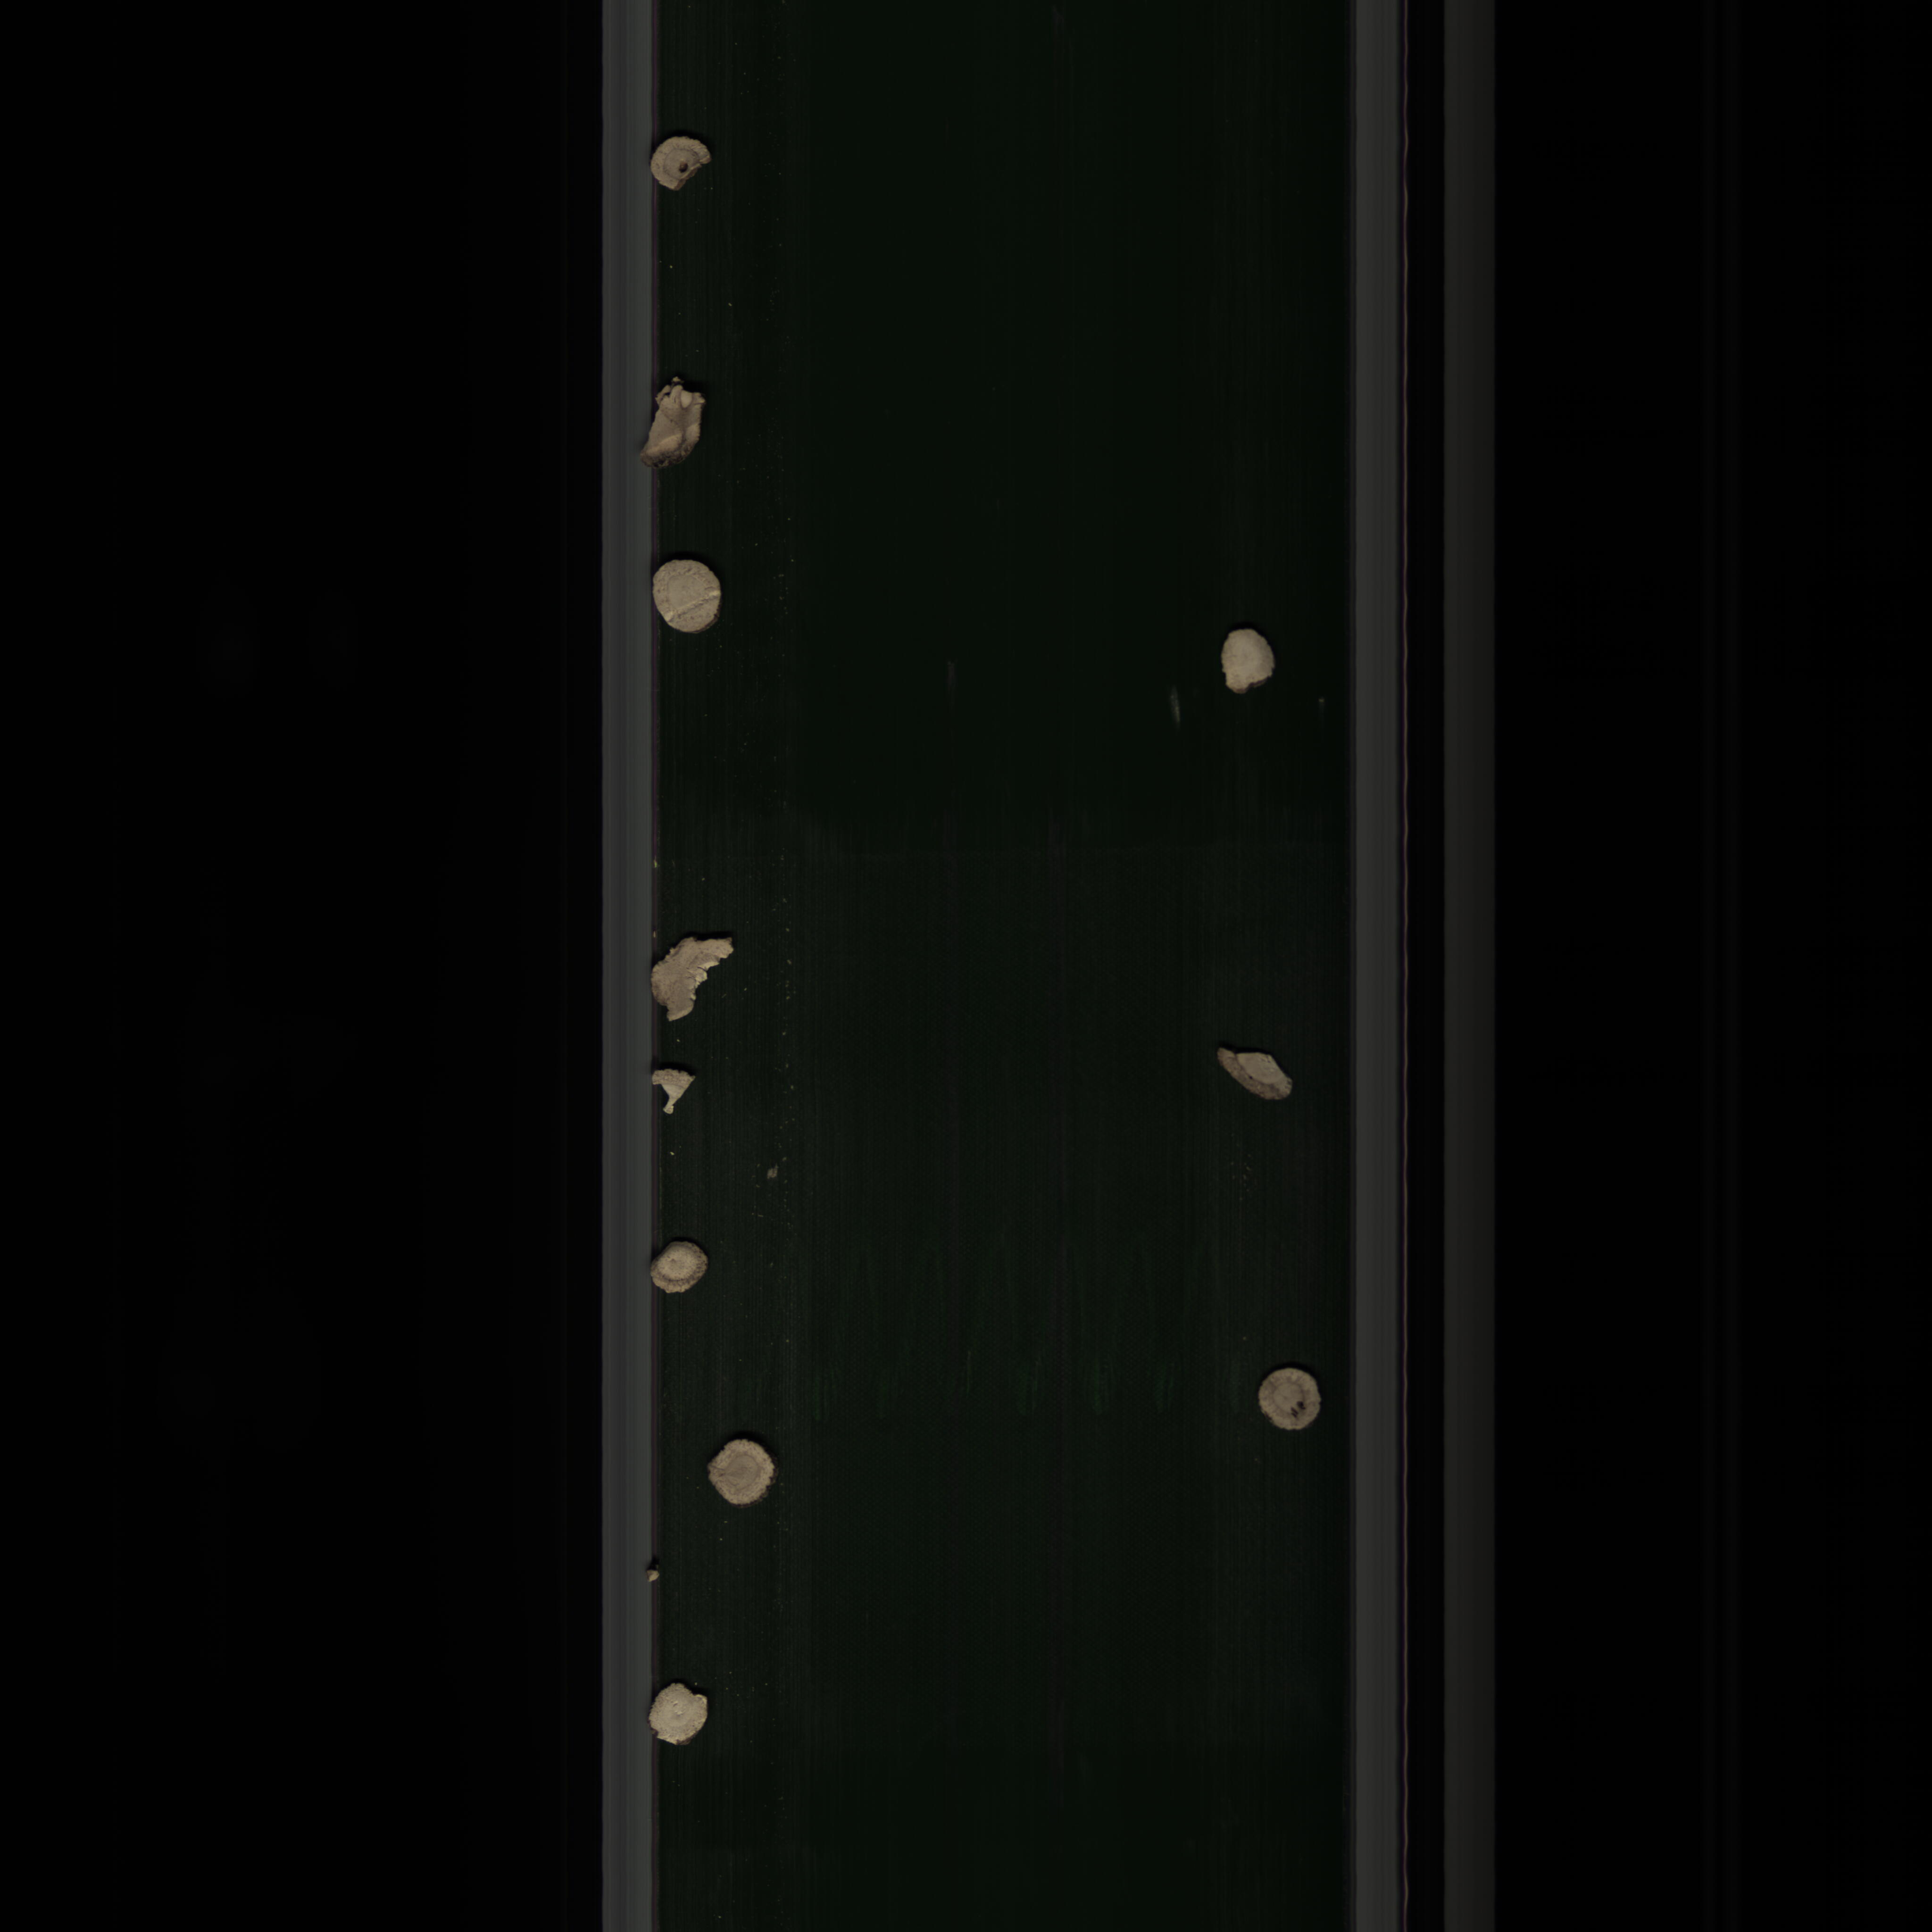debris: (648, 931, 734, 1033), (1203, 1035, 1297, 1118), (648, 1054, 699, 1120)
hole: (1253, 1357, 1334, 1445)
moldy: (637, 373, 720, 467), (637, 122, 724, 198)
